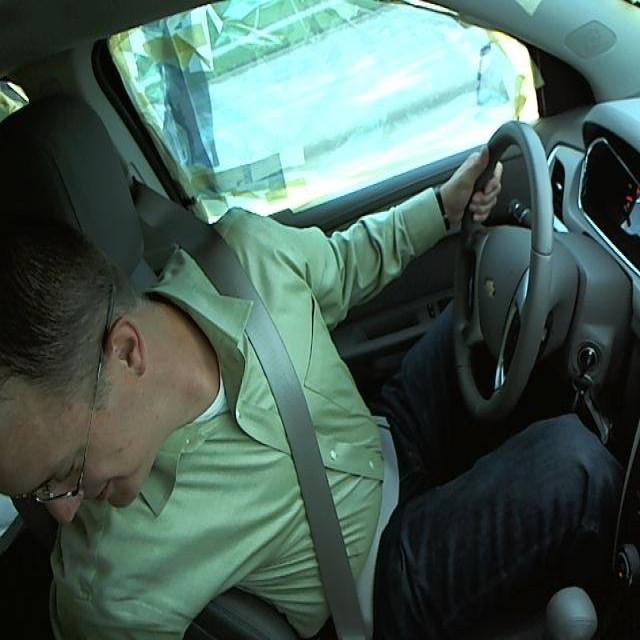seatbelt: (199, 256, 374, 599)
